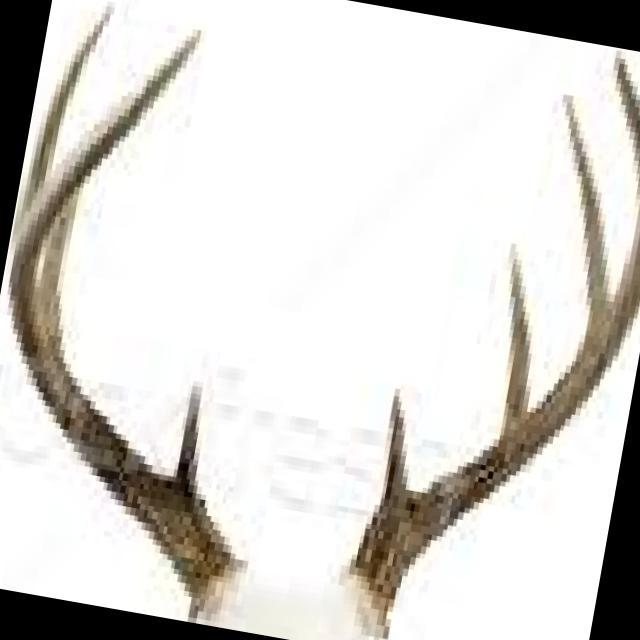L-F: (339, 48, 640, 640)
L-G1: (378, 385, 409, 506)
L-G2: (499, 241, 531, 438)
L-G3: (560, 92, 611, 347)
R-F: (7, 29, 247, 621)
R-G1: (173, 379, 202, 498)
